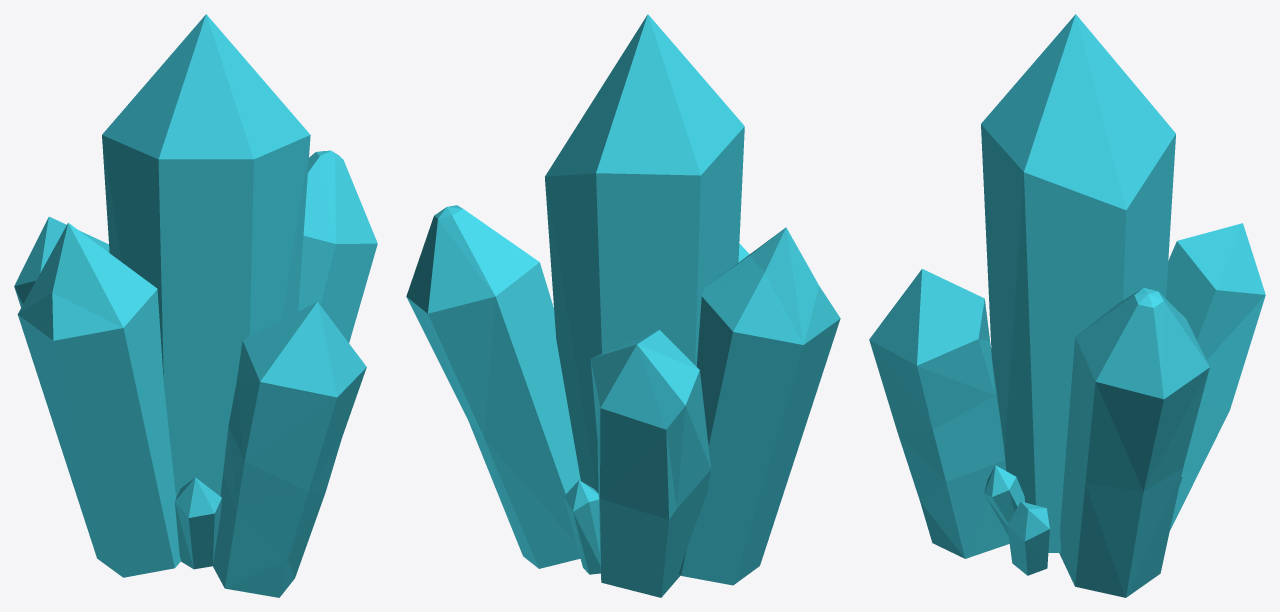
The model's file is Kristall_01.fbx.
The picture shows the model from 3 angles, left to right: view 1: azimuth 30°, elevation 25°; view 2: azimuth 150°, elevation 25°; view 3: azimuth 270°, elevation 25°; orthographic projection. The views are drawn at different scales.
Visible parts, largest first — view 1: Cylinder.00; view 2: Cylinder.00; view 3: Cylinder.00.
Boxes of the visible parts, x1,y1,x2,y2 form: Cylinder.00: [14, 14, 377, 597]; Cylinder.00: [406, 14, 840, 597]; Cylinder.00: [869, 14, 1265, 597].
Size of the model in its own units: 60.57 by 85.56 by 57.33.
